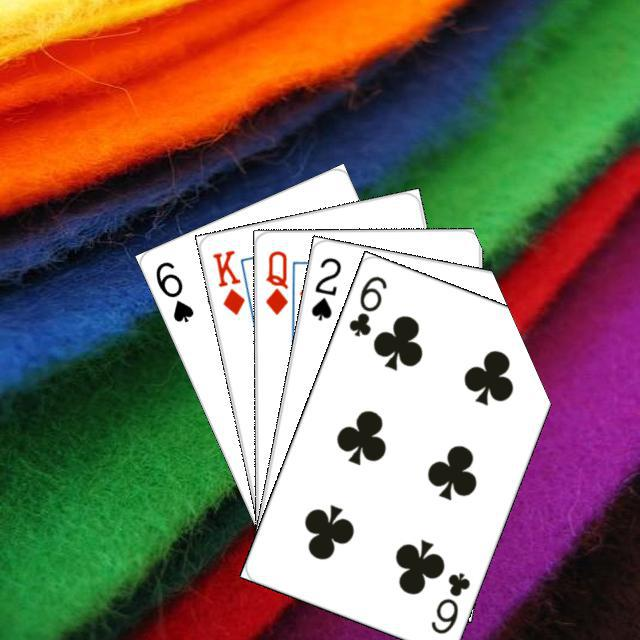2s: (306, 252, 343, 322)
6c: (426, 567, 472, 636), (343, 271, 389, 339)
6s: (150, 256, 196, 324)
Kd: (207, 245, 246, 317)
Qd: (261, 246, 290, 316)
